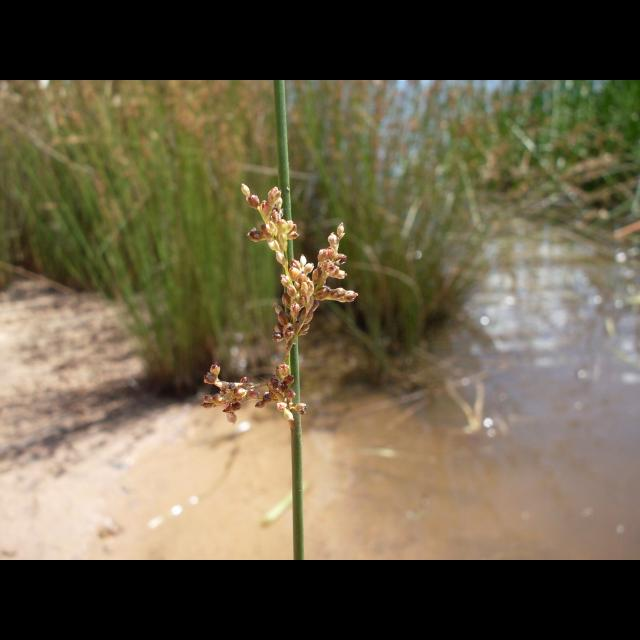Flower: (216, 156, 354, 428)
